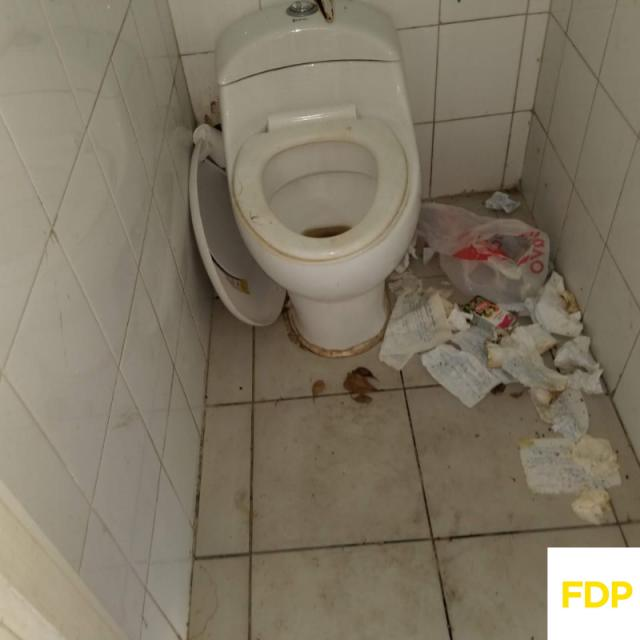garbage: (376, 188, 627, 534)
